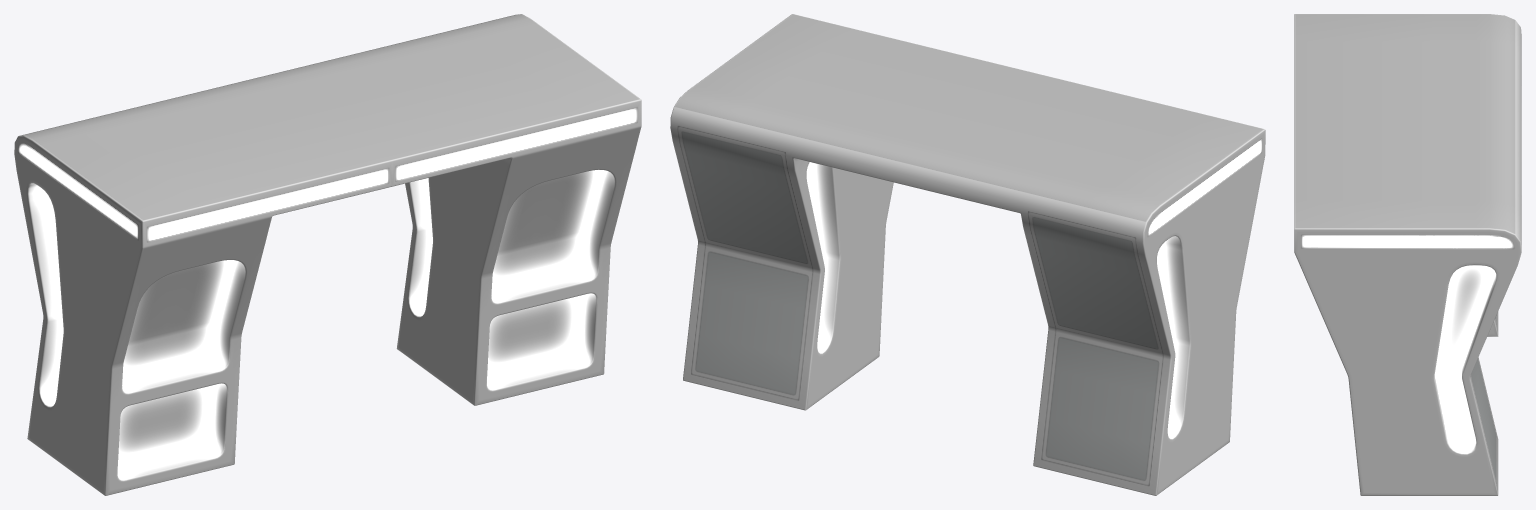
File: BarTable03_1.FBX
3 views of the same model, side by side, from view 1: azimuth 30°, elevation 25°; view 2: azimuth 150°, elevation 25°; view 3: azimuth 270°, elevation 25° (orthographic). The views are drawn at different scales.
Parts seen in each view (by area): view 1: BarTable03_1; view 2: BarTable03_1; view 3: BarTable03_1.
Boxes of the visible parts, <box> form: BarTable03_1: <box>14,14,641,495</box>; BarTable03_1: <box>670,14,1265,495</box>; BarTable03_1: <box>1294,14,1521,495</box>.
Size of what is drawn, in the model's own units: 1.9 by 1.1 by 0.8487.
